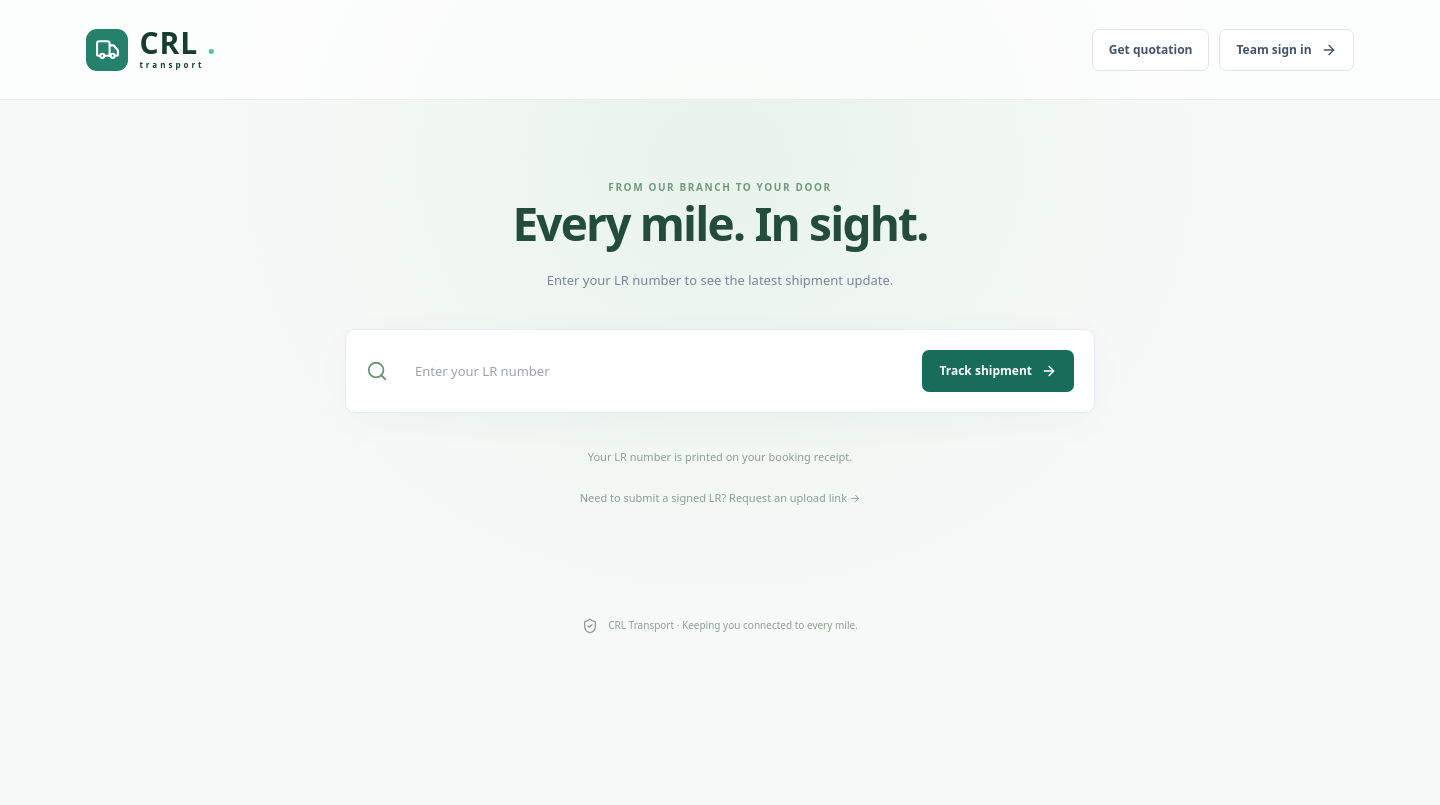
Test case: Documents and public access › tracks publicly without requesting internal details
In the field labelled "LR number": (655, 371) top-left (403, 350), bottom-right (907, 392), type "SK-NGP-2026-000001"
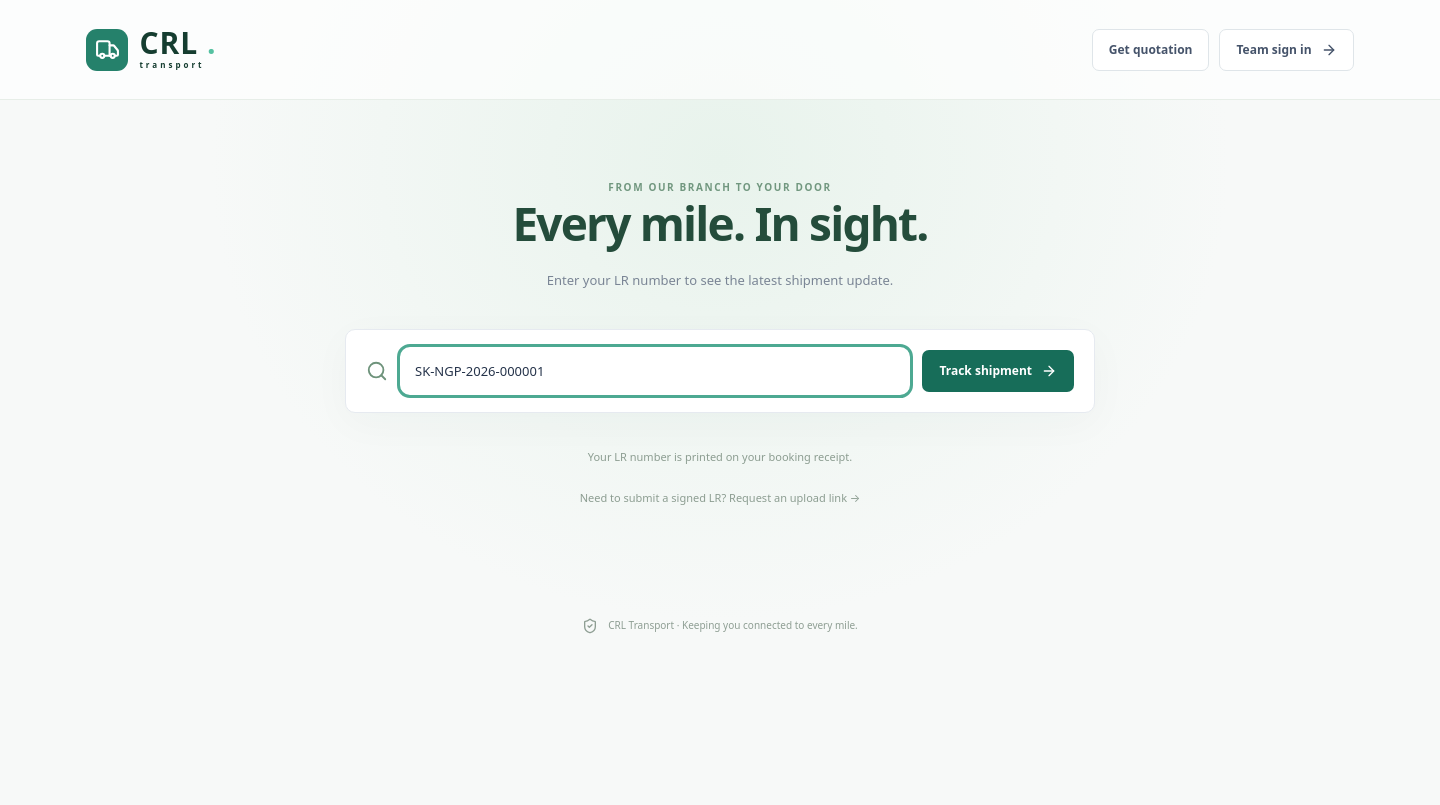
Click the button "Track shipment": (998, 371) top-left (922, 350), bottom-right (1074, 392)
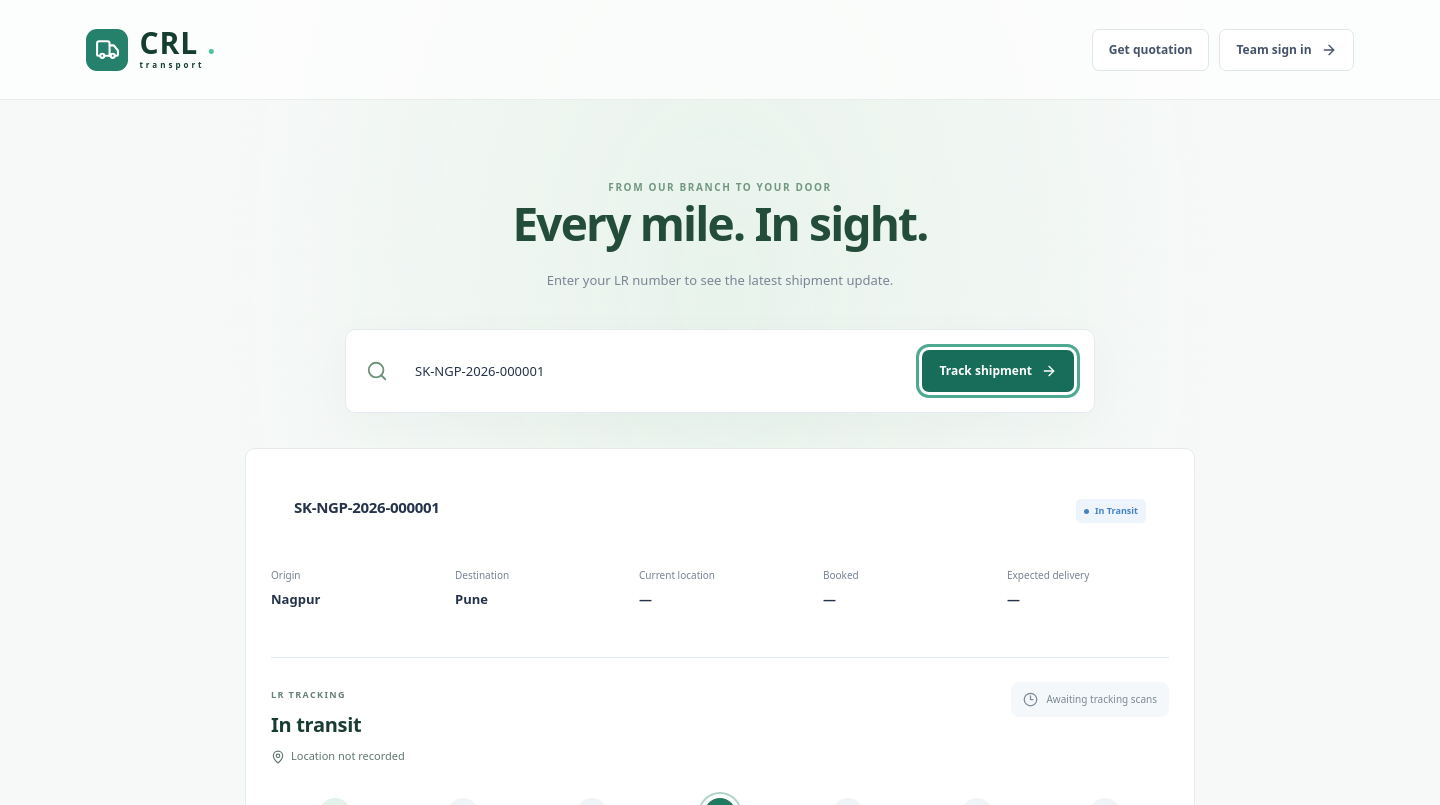
Now the heading "SK-NGP-2026-000001" is shown, box top-left (294, 496), bottom-right (440, 519)
